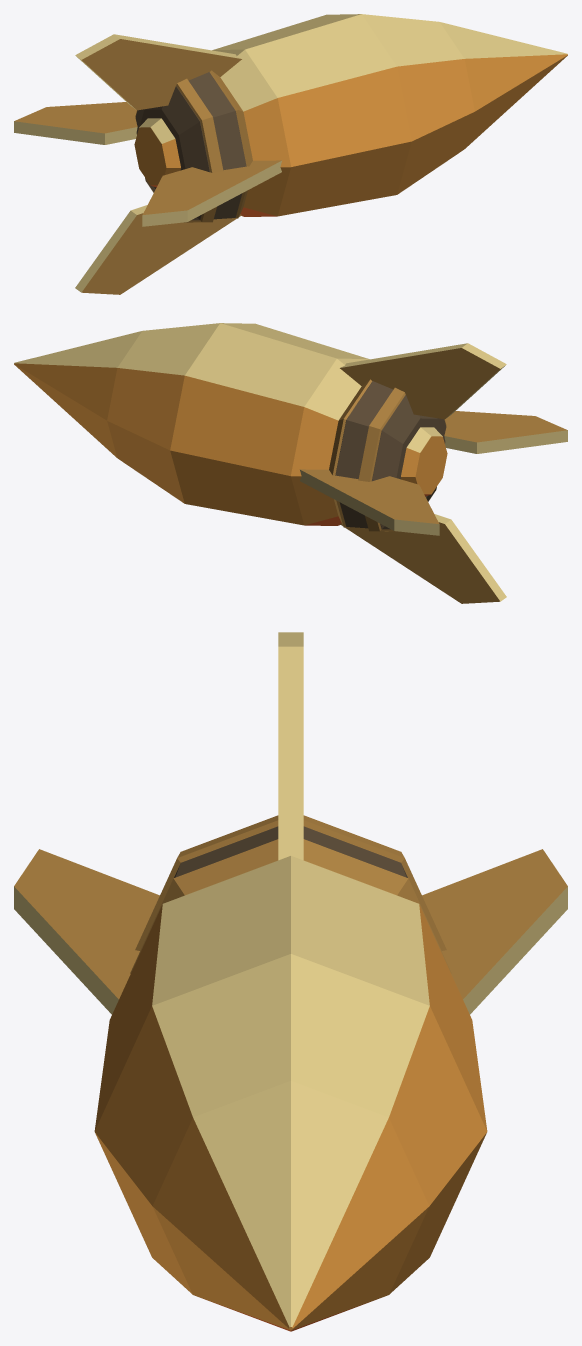
The model's file is SM_PG_CrystalBolt.fbx.
3 renders of one model, top to bottom at view 1: azimuth 30°, elevation 25°; view 2: azimuth 150°, elevation 25°; view 3: azimuth 270°, elevation 25°, orthographic. The views are drawn at different scales.
Visible parts, largest first — view 1: SM_PG_CrystalBolt; view 2: SM_PG_CrystalBolt; view 3: SM_PG_CrystalBolt.
Part boxes in pixels (left/top/right/bottom): SM_PG_CrystalBolt: left=14, top=14, right=567, bottom=294; SM_PG_CrystalBolt: left=14, top=323, right=567, bottom=603; SM_PG_CrystalBolt: left=14, top=632, right=567, bottom=1331.
Bounding box in the file's own units: 44 × 22 × 22.
